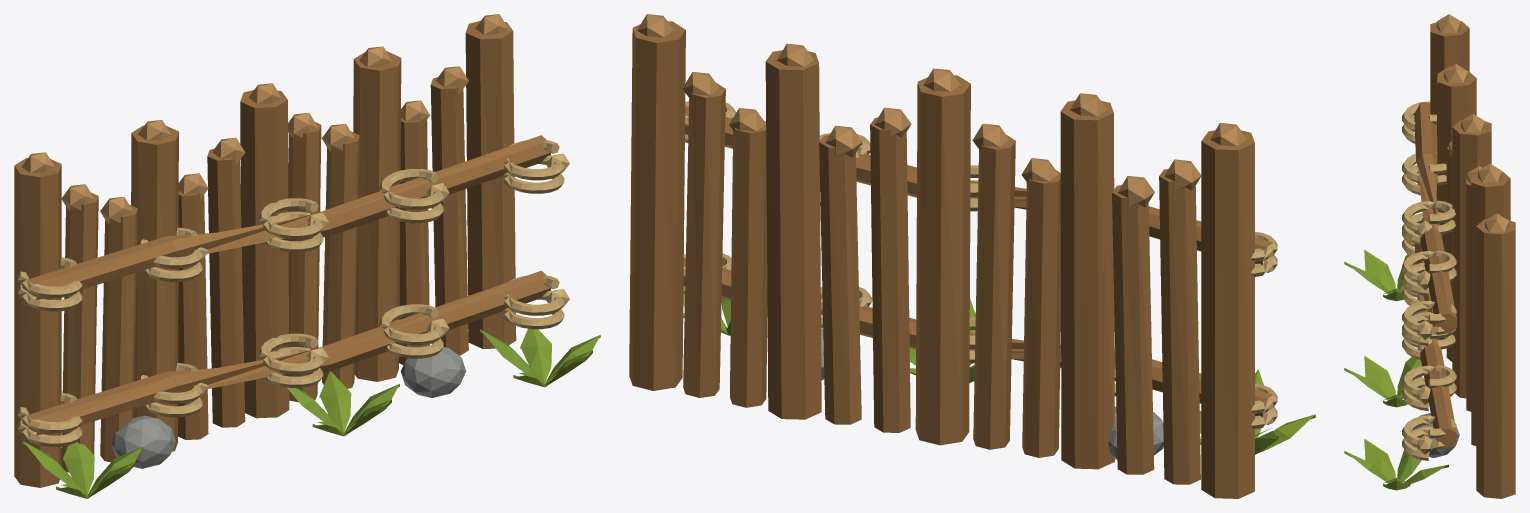
Rendered from 03_branch_fence.glb.
The picture shows the model from 3 angles, left to right: view 1: azimuth 30°, elevation 25°; view 2: azimuth 150°, elevation 25°; view 3: azimuth 270°, elevation 25°; orthographic projection. The views are drawn at different scales.
Parts seen in each view (by area): view 1: Static; view 2: Static; view 3: Static.
Boxes of the visible parts, x1,y1,x2,y2 form: Static: (14,14,600,498); Static: (629,14,1315,498); Static: (1344,14,1515,498).
Bounding box in the file's own units: 2.51 × 1.41 × 0.7853.
